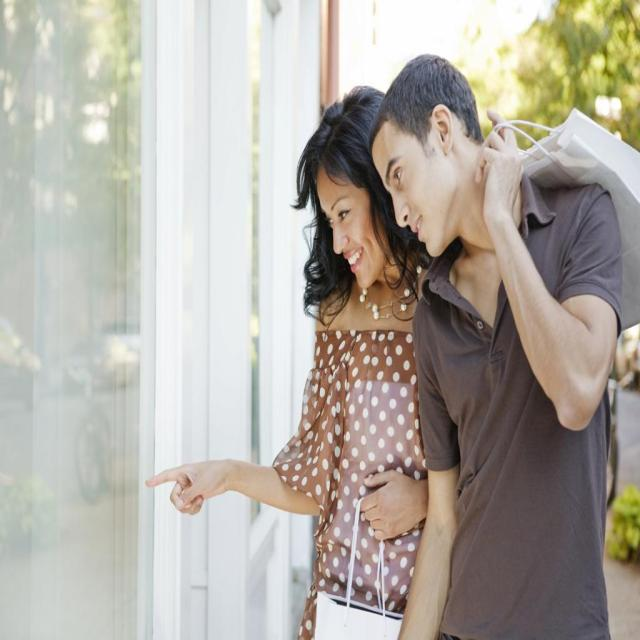Face: (375, 114, 454, 260), (318, 174, 383, 308)
